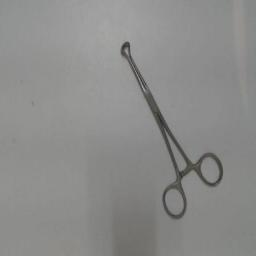Babcock Tissue Forceps: (118, 36, 226, 222)
